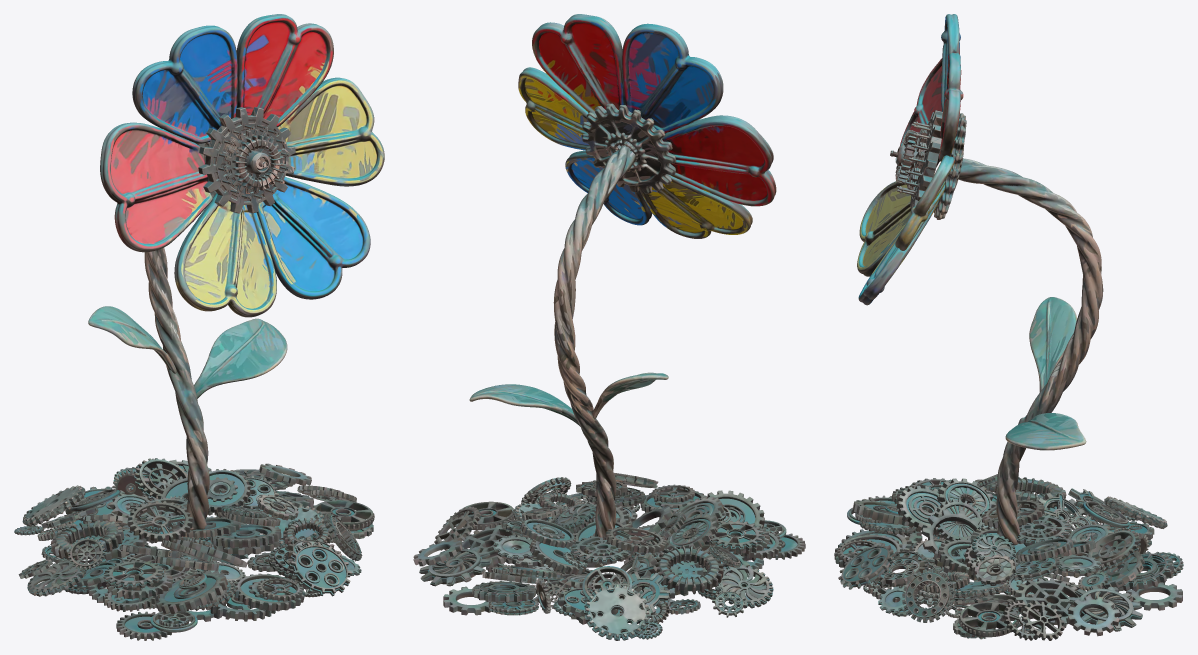
File: flower_style.glb
3 views of the same model, side by side, from view 1: azimuth 30°, elevation 25°; view 2: azimuth 150°, elevation 25°; view 3: azimuth 270°, elevation 25° (orthographic). The views are drawn at different scales.
Parts seen in each view (by area): view 1: MyGeo; view 2: MyGeo; view 3: MyGeo.
Boxes of the visible parts, box(x1,y1,x2,y2) form: MyGeo: box(14, 14, 384, 640); MyGeo: box(413, 14, 805, 640); MyGeo: box(834, 14, 1183, 640).
Bounding box in the file's own units: 0.1717 × 0.2727 × 0.1609.
4 materials, 4 textured.
